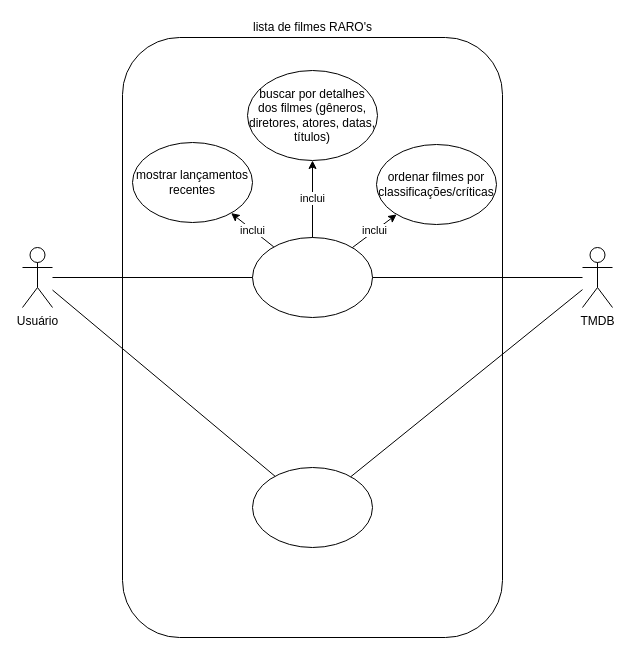
Image size: 632x655. Some labels were removed from this diagram. The shapes that lost their labels are listed below. From the top down, each one's box as (x1, y1, x2, y2) in pixels, then its label:
(252, 236, 372, 318): encontrar filmes
(252, 466, 372, 548): gerir lista pessoal de filmes
